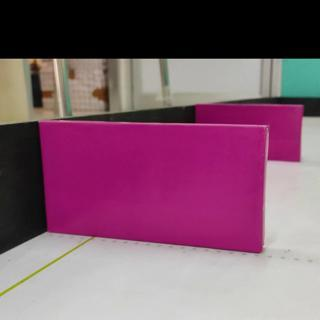xparking: (42, 119, 267, 252), (271, 105, 300, 161)
